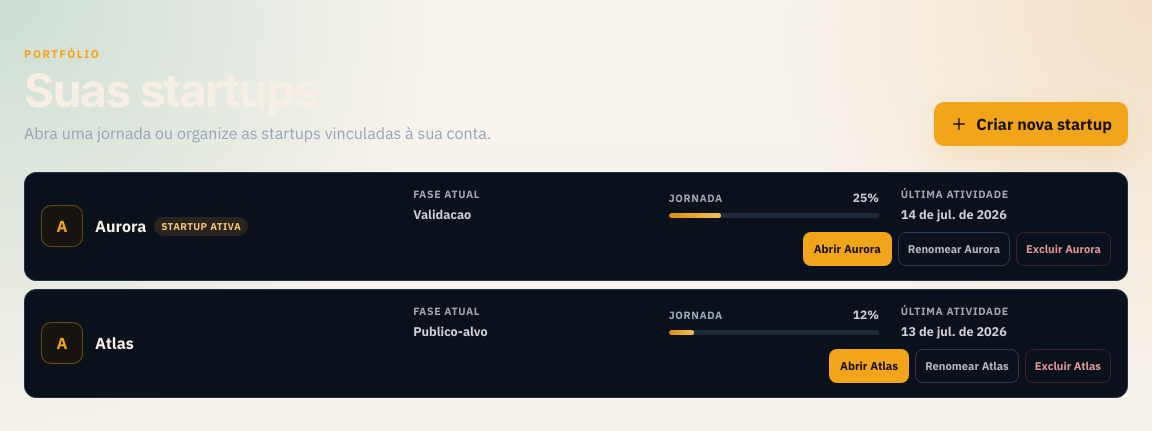
it: StartupManagerPage › keeps a silent rename refresh failure in the originating row
Click the button "Renomear Aurora".
click(954, 249)  # box [898,232,1010,266]
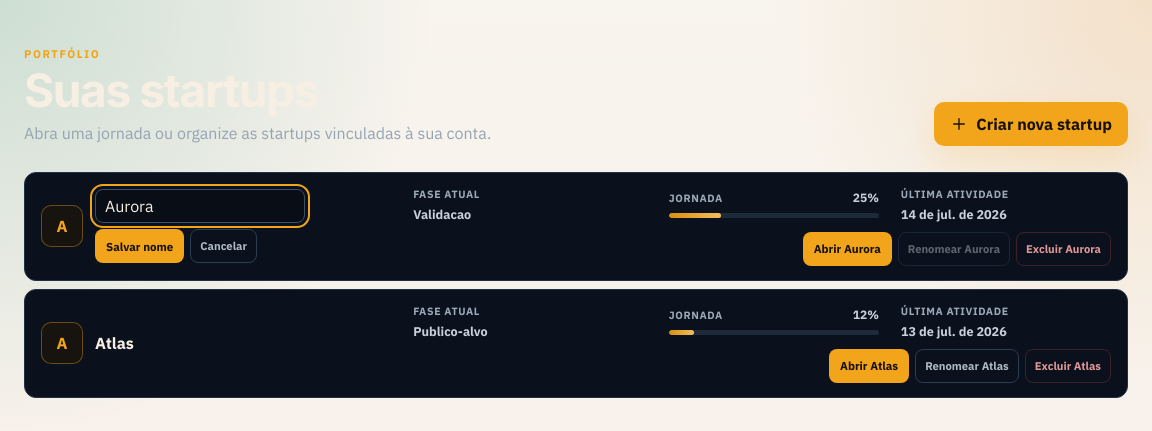
Replace the text in the field named "Novo nome de Aurora" with "Aurora Labs" at (200, 206), box [95,189,305,223]
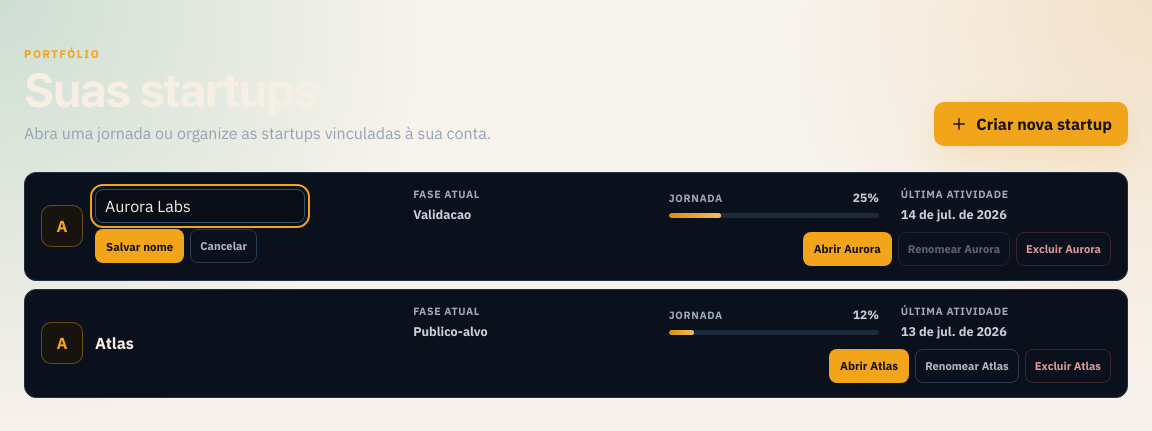
Click the button "Salvar nome".
click(140, 246)  # box [95,229,184,263]
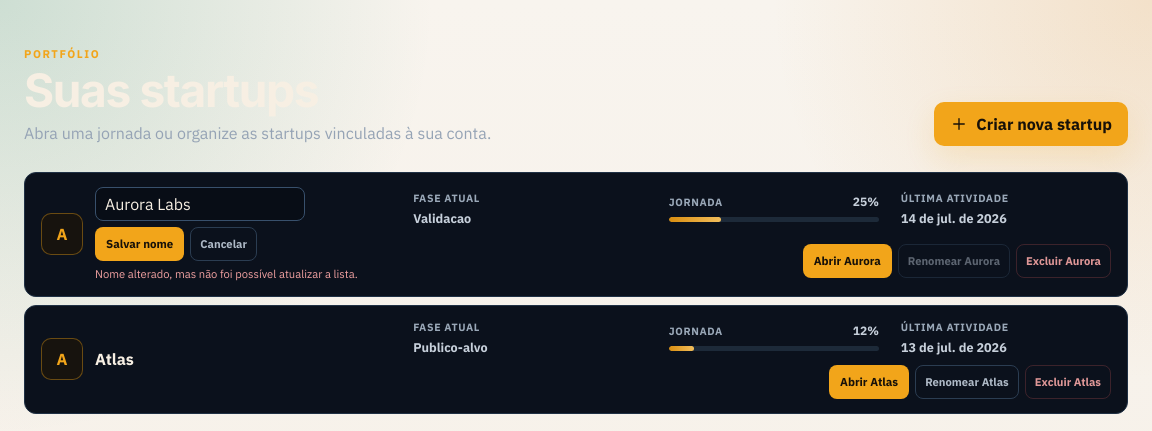
Check: the message reads "Nome alterado, mas não foi possível atualizar a lista.", box [95,267,358,281]
